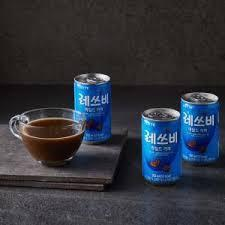letsbe: (141, 110, 181, 186), (72, 75, 114, 147), (182, 91, 224, 163)
